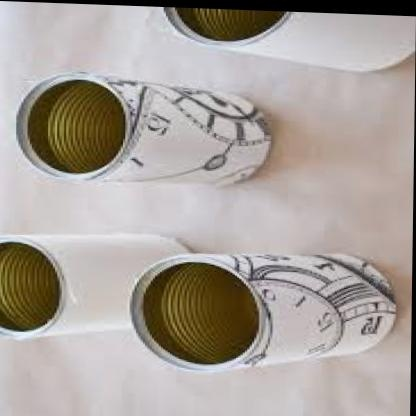trash: (0, 234, 395, 368), (17, 74, 270, 184)
